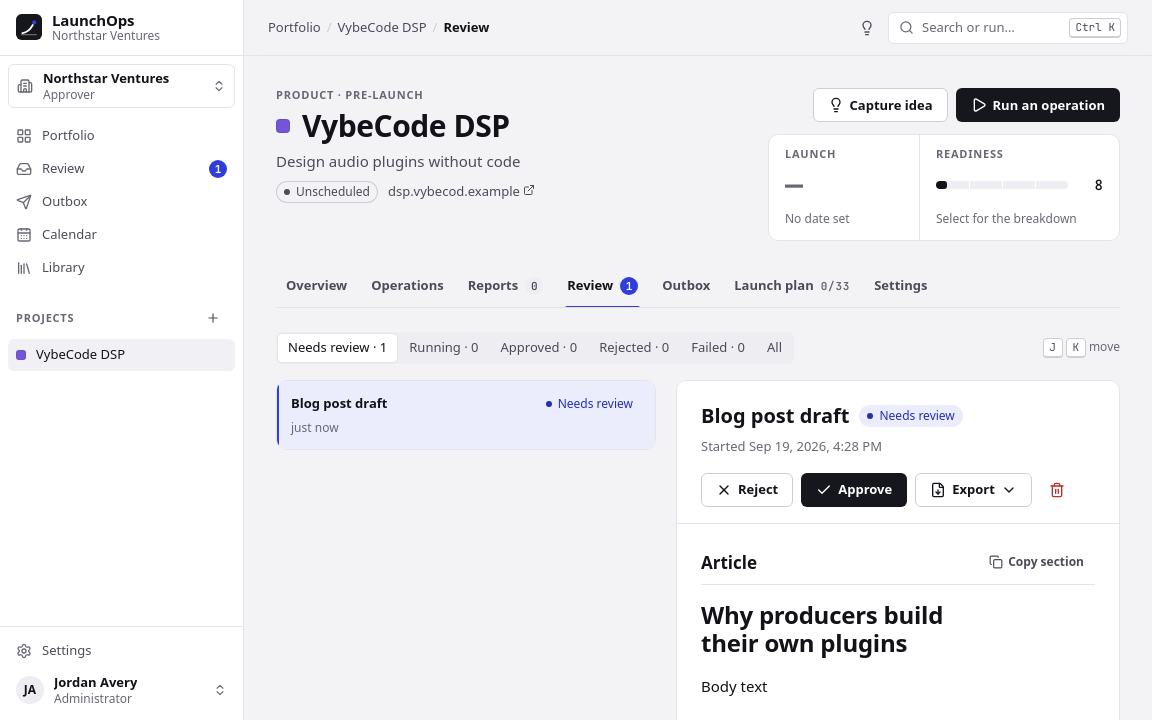
Review by role › lets an approver approve, move back and delete results
Step 1. Click the button "Approve" → (854, 490), box [801,473,907,507]
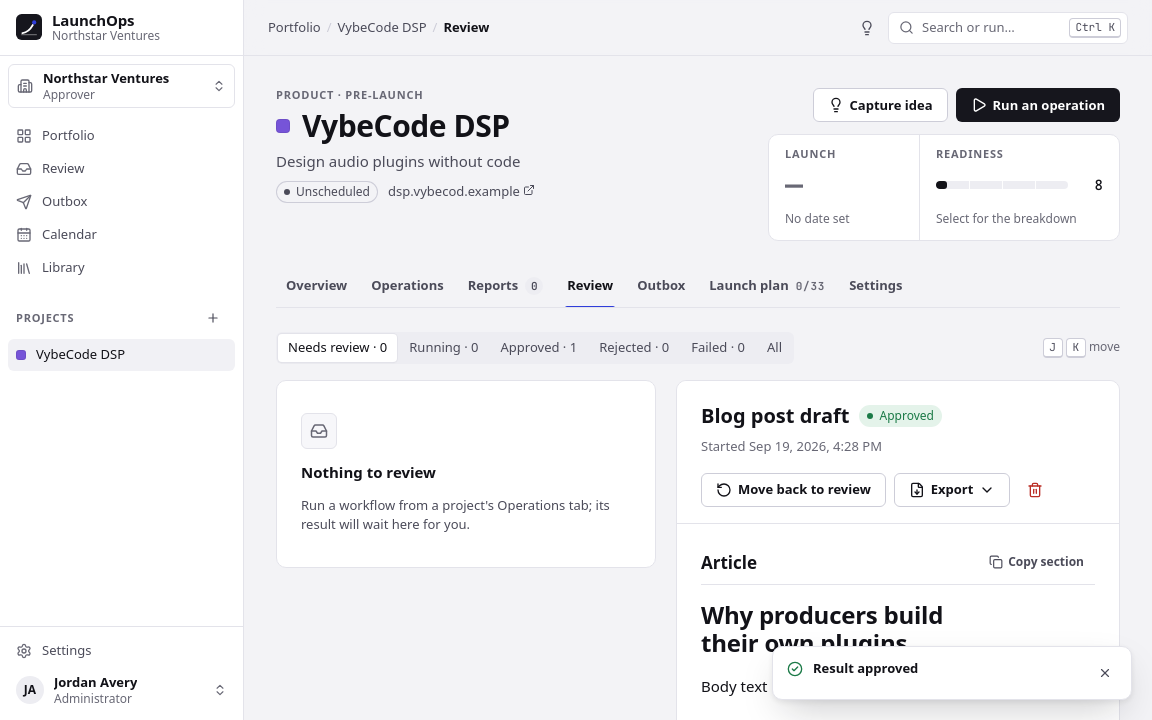
Check: the button named "Delete result" is shown, box [1018,473,1052,507]
Check: the text "Result approved" is shown, box [813,659,918,677]
Check: the button "Move back to review" is shown, box [701,473,886,507]
